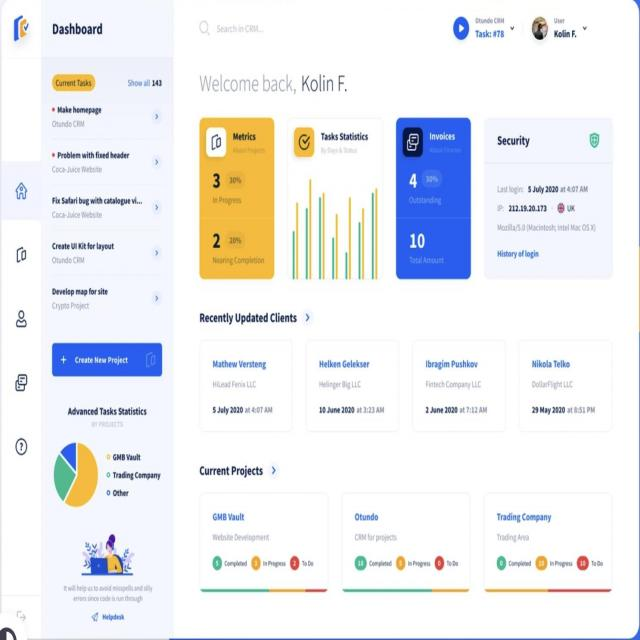button: (51, 342, 163, 376)
input: (194, 13, 296, 42)
select: (475, 14, 517, 41)
